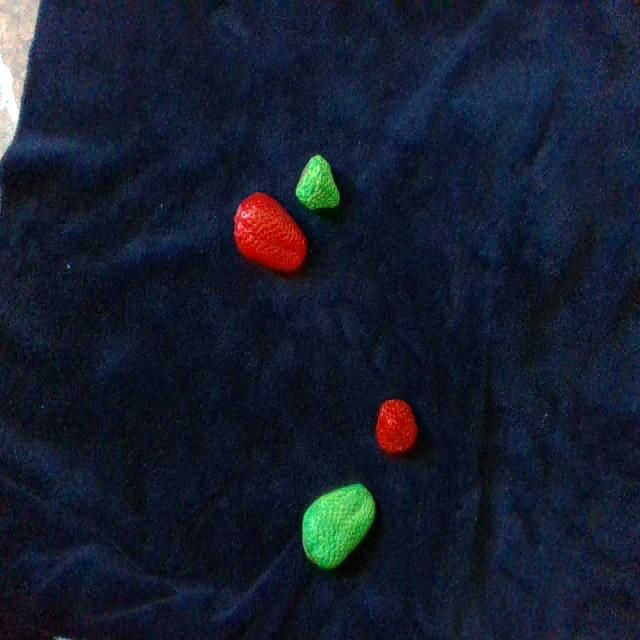chica_roja: (377, 400, 417, 453)
grande_roja: (234, 193, 305, 271)
verde: (302, 484, 375, 568), (296, 155, 339, 208)
